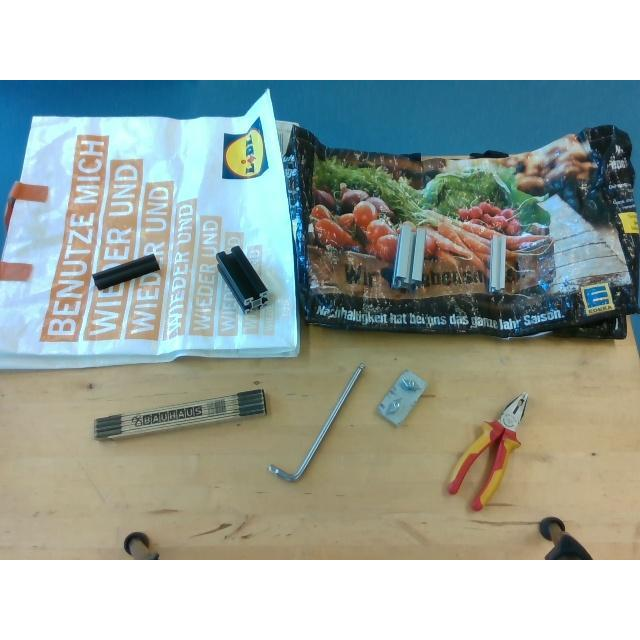AllenKey: (266, 362, 366, 482)
F20_20_B: (92, 254, 160, 290)
F20_20_G: (488, 233, 506, 291)
S40_40_B: (216, 246, 268, 310)
S40_40_G: (392, 224, 428, 286)
